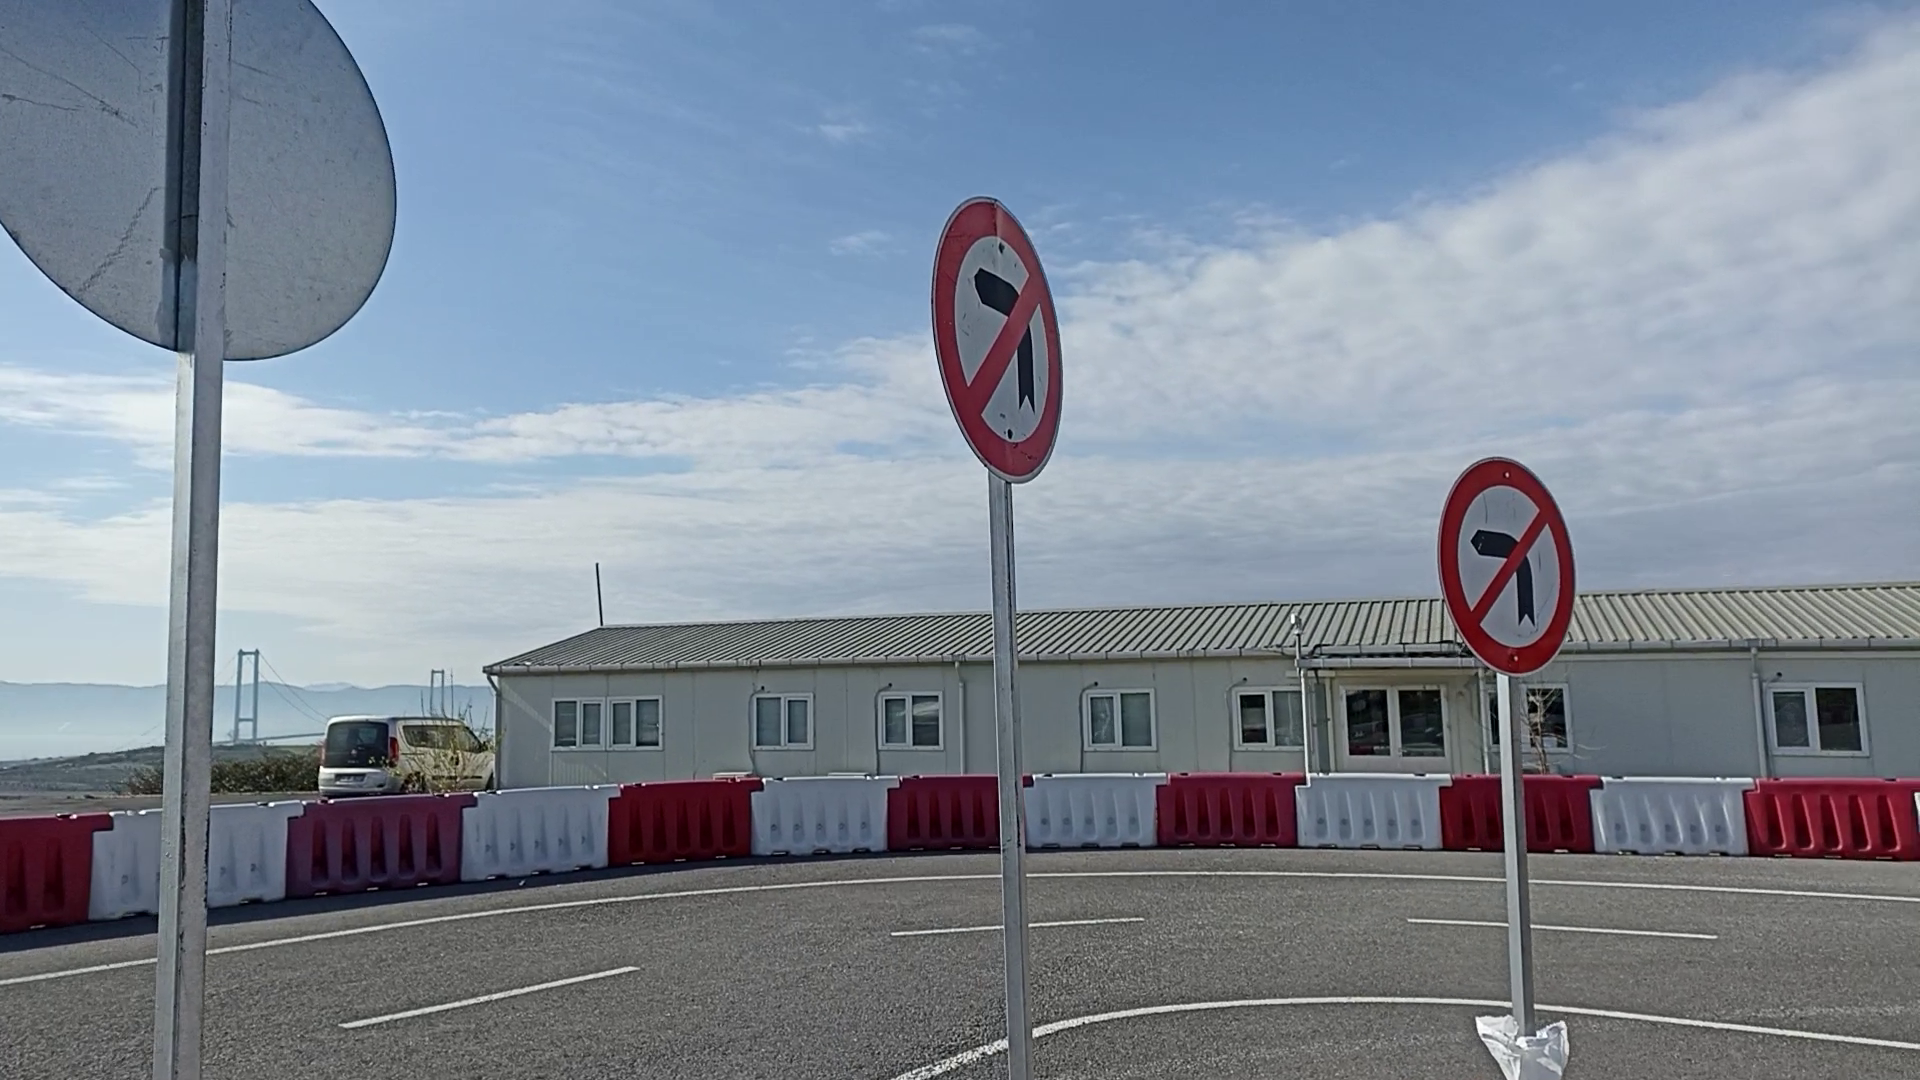noleft: (926, 193, 1071, 491), (1435, 455, 1580, 679)
